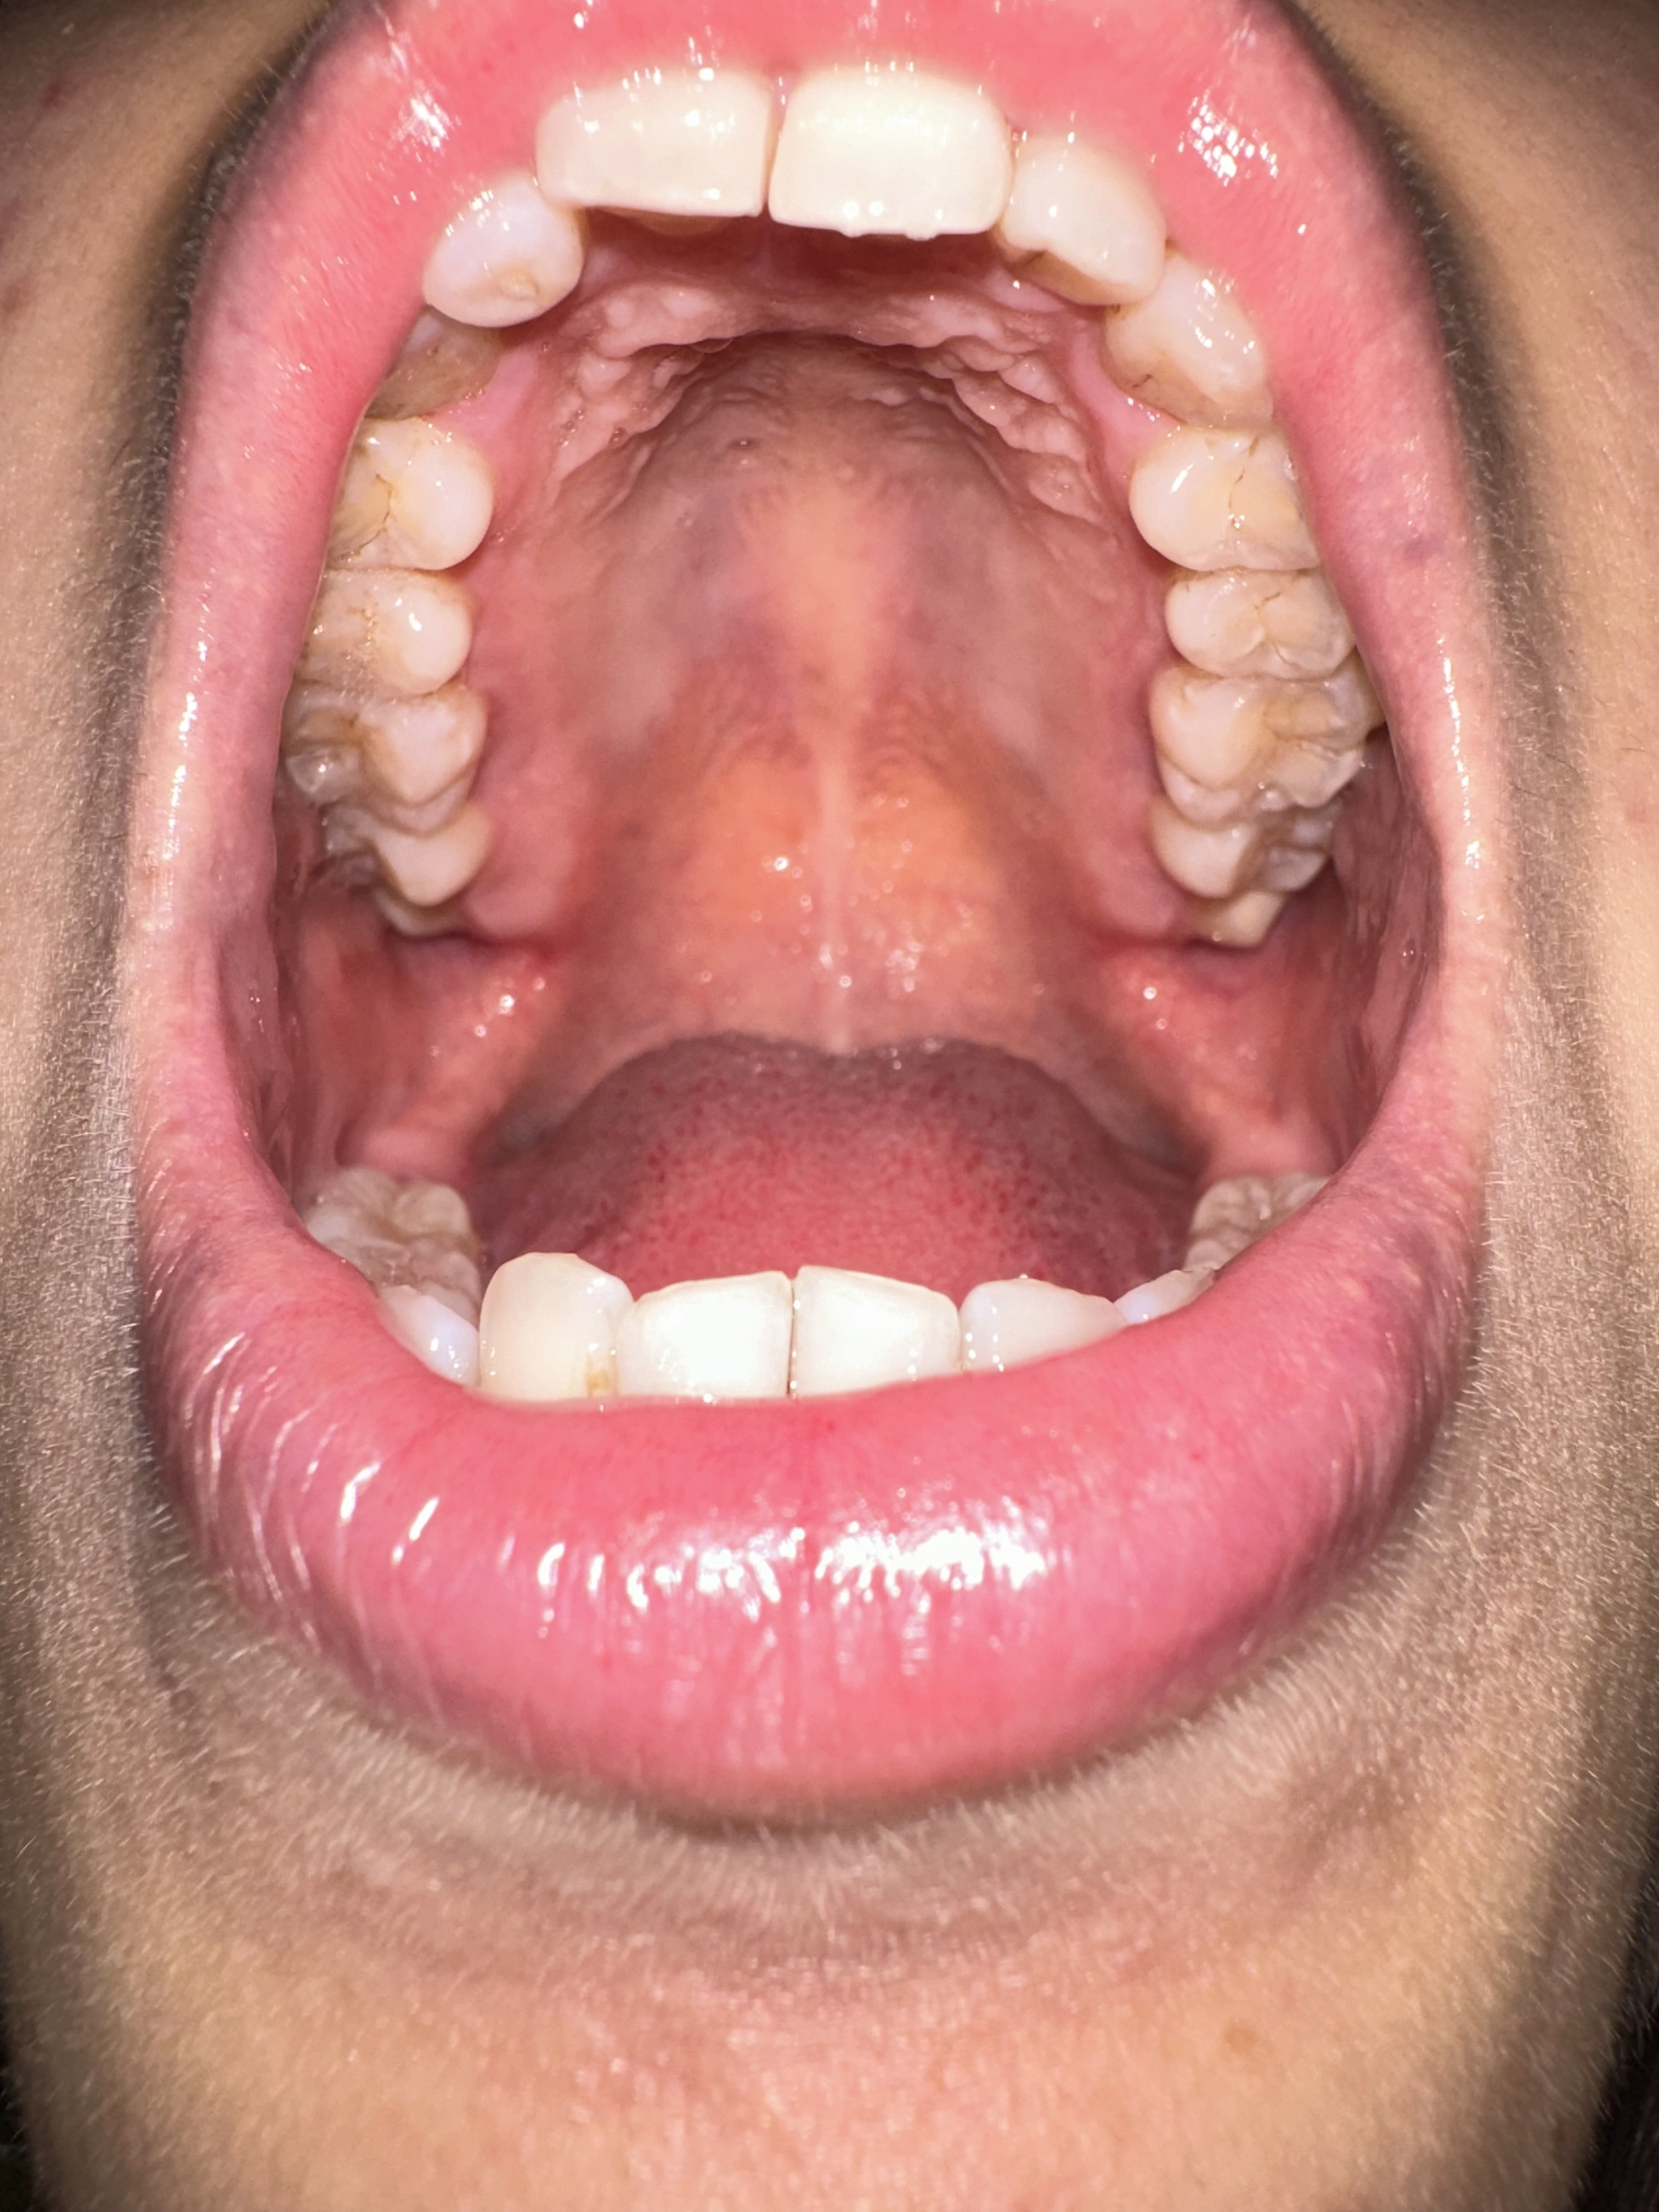teeth: (781, 94, 999, 226), (1154, 658, 1363, 796), (1107, 260, 1276, 420), (556, 84, 756, 202), (1026, 138, 1168, 300), (425, 185, 587, 326), (291, 705, 477, 820), (1148, 449, 1342, 554), (305, 580, 472, 698), (624, 1277, 782, 1397), (326, 437, 469, 566), (484, 1264, 613, 1402), (1175, 566, 1349, 660), (817, 1280, 960, 1386)
